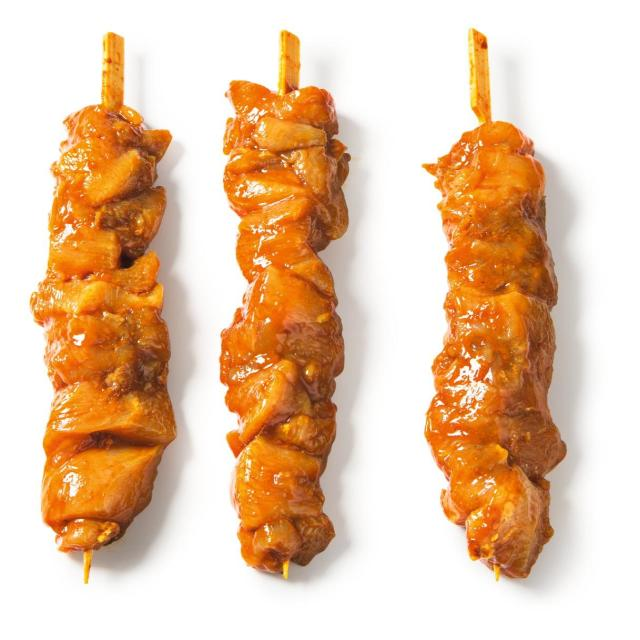Sate: (2, 5, 640, 616)
